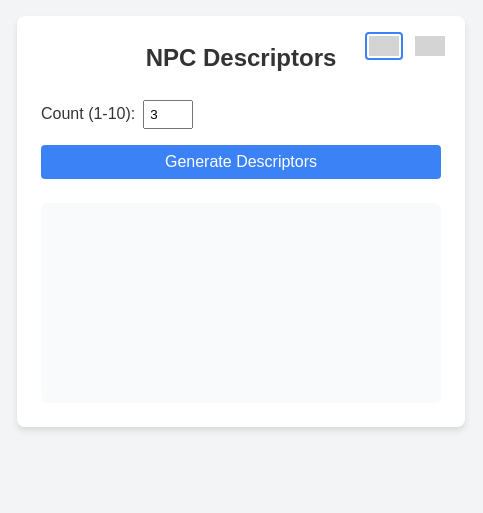
Scenario: App Component › displays error message on fetch failure
Click the button "Generate Descriptors".
click(241, 162)  # box [41, 145, 441, 179]
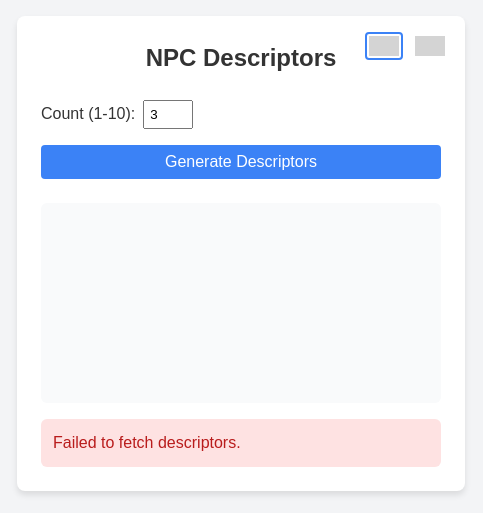
Expected: the text "Failed to fetch descriptors." is shown, [53, 434, 241, 451]
